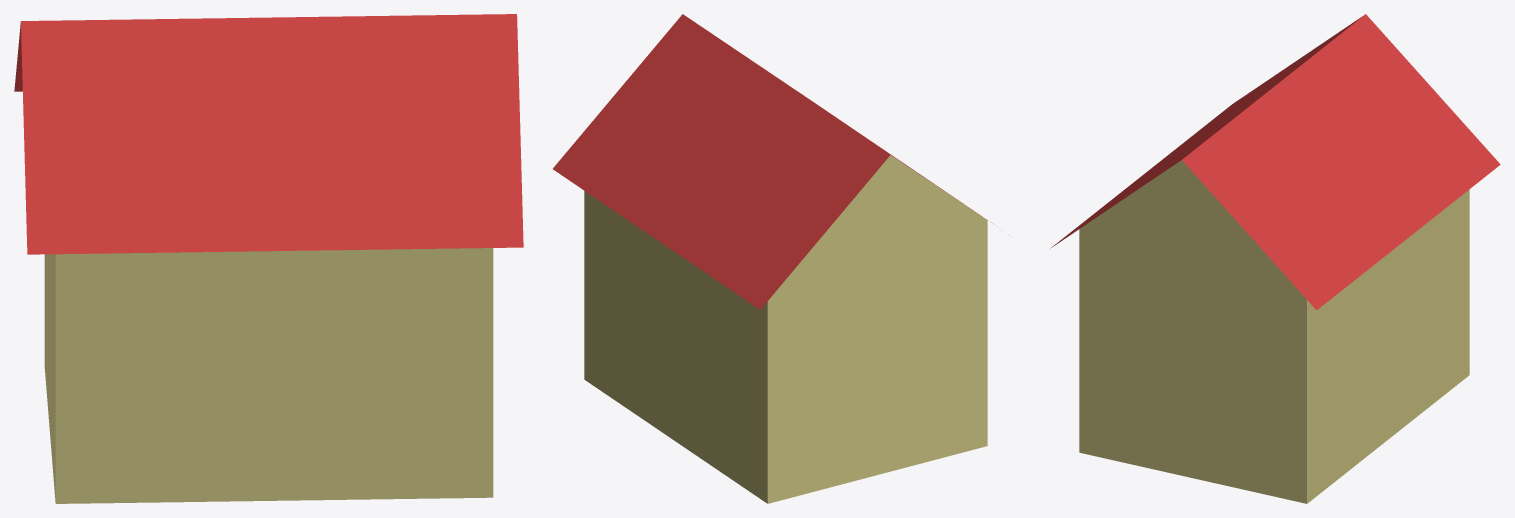
3 views of the same model, side by side, from view 1: azimuth 30°, elevation 25°; view 2: azimuth 150°, elevation 25°; view 3: azimuth 270°, elevation 25° (orthographic). The views are drawn at different scales.
Size of the model in its own units: 15.88 by 14.71 by 11.73.
